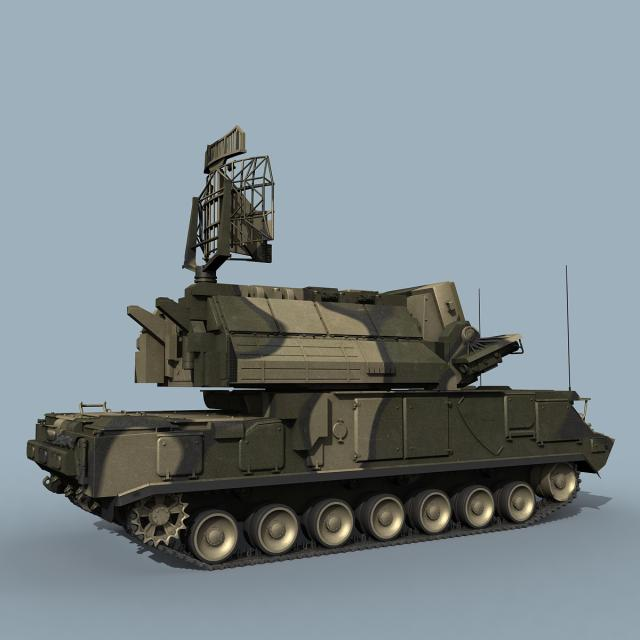MIL_EW_RDR: (30, 126, 610, 566)
